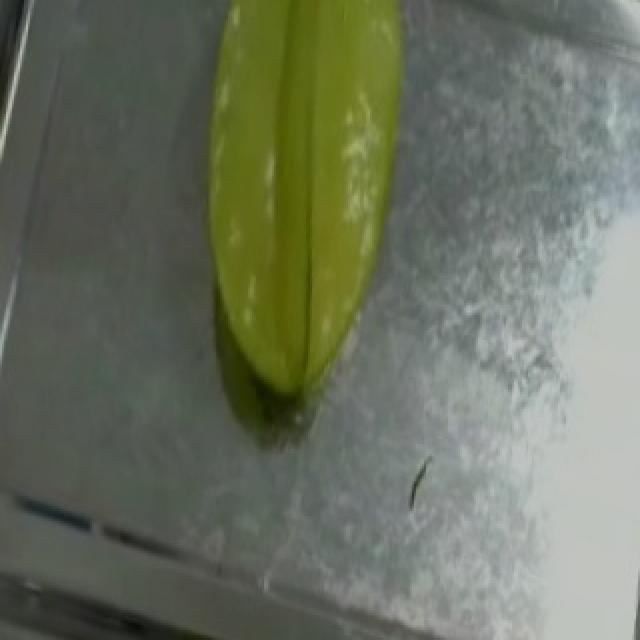fruit: (156, 0, 482, 337)
